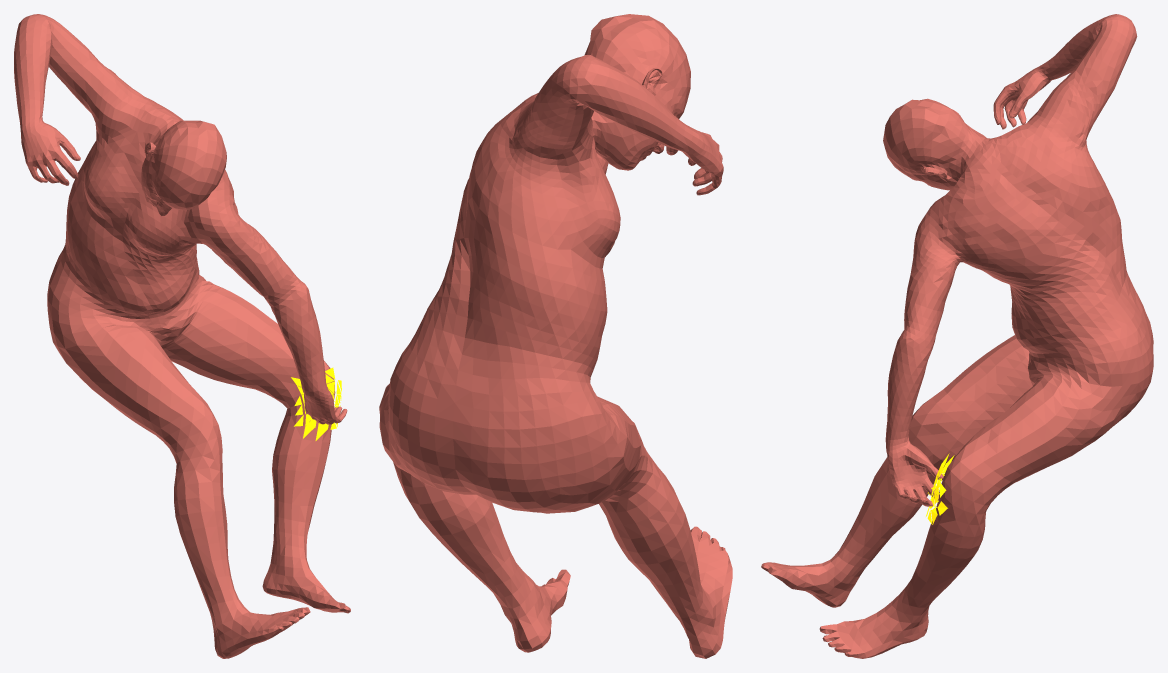
The model's file is hwc_collision_10.glb.
The picture shows the model from 3 angles, left to right: view 1: azimuth 30°, elevation 25°; view 2: azimuth 150°, elevation 25°; view 3: azimuth 270°, elevation 25°; orthographic projection. The views are drawn at different scales.
Visible parts, largest first — view 1: hwc_collision, collision_marker; view 2: hwc_collision; view 3: hwc_collision, collision_marker.
Boxes of the visible parts, x1,y1,x2,y2 form: hwc_collision: (14,14,350,658); collision_marker: (291,367,341,440); hwc_collision: (379,14,732,658); hwc_collision: (761,14,1153,658); collision_marker: (926,453,954,524).
Size of the model in its own units: 0.7177 by 1.37 by 0.8653.
